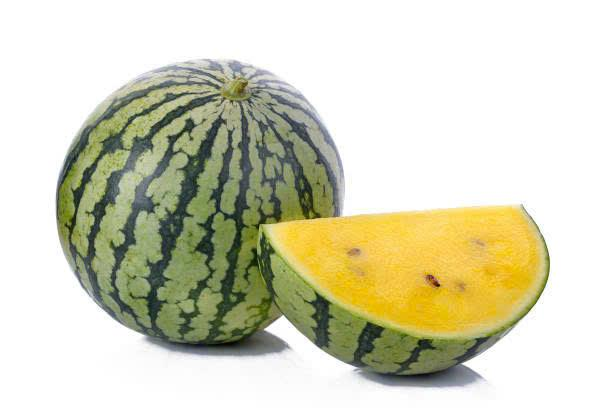watermelon: (46, 28, 315, 355), (252, 205, 553, 384)
